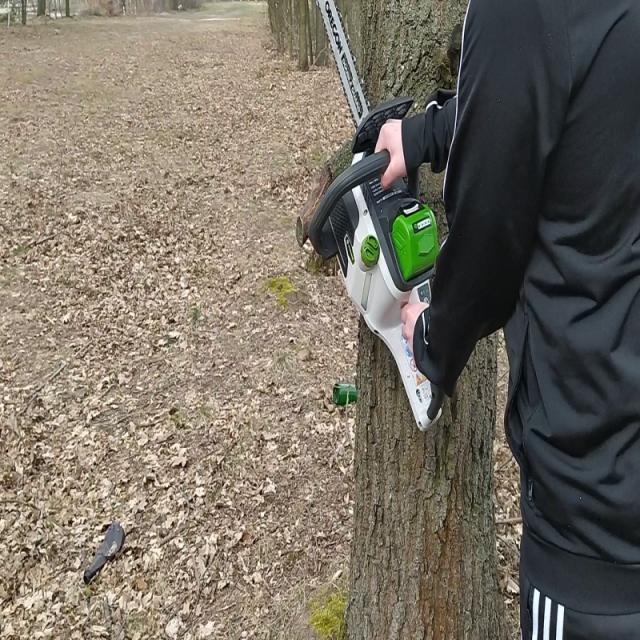Chainsaw: (303, 0, 452, 436)
